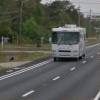Bus: (46, 23, 89, 66)
